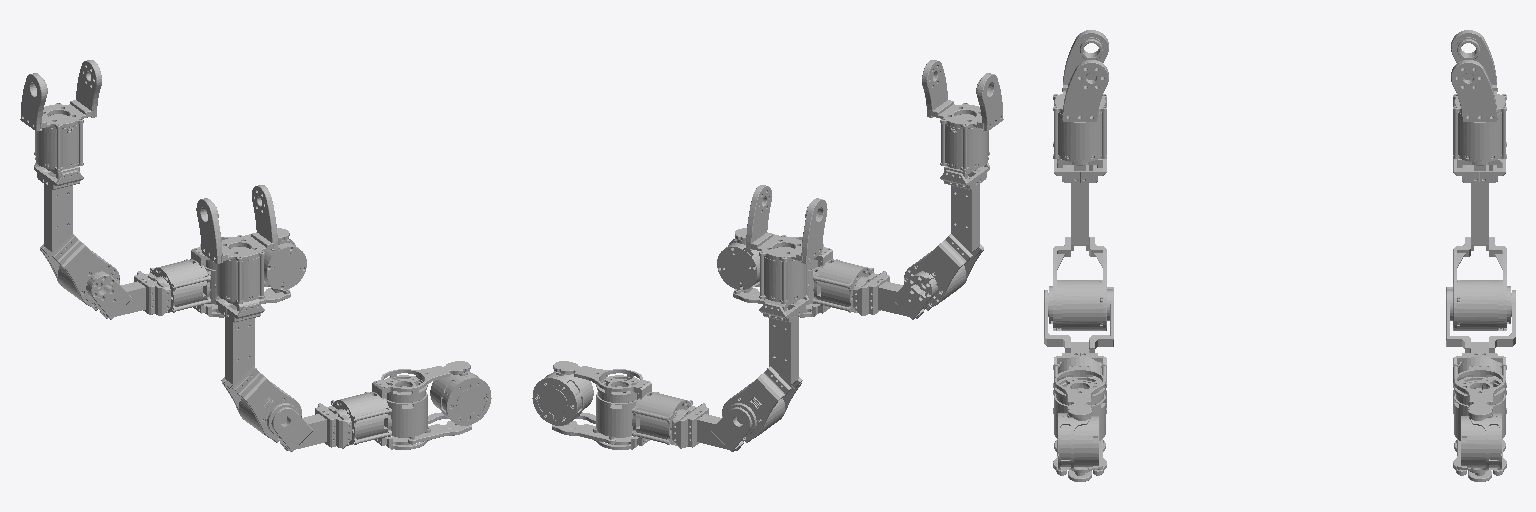
robot.urdf — DualArmURDF:
<?xml version="1.0" encoding="utf-8"?>
<!-- This URDF was automatically created by SolidWorks to URDF Exporter! Originally created by [author] ([email redacted]) 
     Commit Version: 1.6.0-4-g7f85cfe  Build Version: 1.6.7995.38578
     For more information, please see http://wiki.ros.org/sw_urdf_exporter -->
<robot name="DualArmURDF">
  <mujoco>
  <compiler
    meshdir="../meshes/"
    balanceinertia="true"
    discardvisual="false" />
  </mujoco>
  <link
    name="base_link">
    <inertial>
      <origin
        xyz="0 0 0"
        rpy="0 0 0" />
        <!-- <origin
        xyz="0.140939, -0.085551, 0.087643"
        rpy="-0.006349 1.140942  0.037340" /> -->
      <mass
        value="39.224" />
      <inertia
        ixx="1.4231"
        ixy="-1.4275E-12"
        ixz="1.1519E-06"
        iyy="1.4209"
        iyz="-6.1411E-07"
        izz="2.1654" />
    </inertial>
    <visual>
      <origin
        xyz="0 0 0"
        rpy="0 0 0" />
      <geometry>
        <mesh
          filename="../meshes/Base_link.STL" />
      </geometry>
      <material
        name="">
        <color
          rgba="0.75294 0.75294 0.75294 1" />
      </material>
    </visual>
    <collision>
      <origin
        xyz="0 0 0.05"
        rpy="0 0 0" />
      <geometry>
        <!-- <mesh
          filename="../meshes/Base_link.STL" /> -->
          <box size="0.6 0.6 0.1" />
      </geometry>
    </collision>
    <collision>
      <origin
        xyz="0 0 0.6"
        rpy="0 0 0" />
      <geometry>
        <!-- <mesh
          filename="../meshes/Base_link.STL" /> -->
          <box size="0.06 0.06 1.2" />
      </geometry>
    </collision>
  </link>

  <link
    name="left_shoulder_pitch_link">
    <inertial>
      <origin
        xyz="0.0024691 0.060922 -5.9756E-05"
        rpy="0 0 0" />
      <mass
        value="0.41079" />
      <inertia
        ixx="0.00034659"
        ixy="-2.3236E-06"
        ixz="3.6277E-09"
        iyy="0.00017946"
        iyz="5.4217E-08"
        izz="0.00025915" />
    </inertial>
    <visual>
      <origin
        xyz="0 0 0"
        rpy="0 0 0" />
      <geometry>
        <mesh
          filename="../meshes/LeftShoulder_Link1.STL" />
      </geometry>
      <material
        name="">
        <color
          rgba="0.75294 0.75294 0.75294 1" />
      </material>
    </visual>
    <collision>
      <origin
        xyz="0 0 0"
        rpy="0 0 0" />
      <geometry>
        <mesh
          filename="../meshes/LeftShoulder_Link1.STL" />
      </geometry>
    </collision>
  </link>
  <joint
    name="left_shoulder_pitch_joint"
    type="revolute">
    <origin
      xyz="0 0.13275 1.125"
      rpy="0 0 0" />
    <parent
      link="base_link" />
    <child
      link="left_shoulder_pitch_link" />
    <axis
      xyz="0 1 0" />
    <limit
      lower="-3"
      upper="3"
      effort="30"
      velocity="40" />
  </joint>
  <link
    name="left_shoulder_roll_link">
    <inertial>
      <origin
        xyz="-0.035296 0.010378 -0.054088"
        rpy="0 0 0" />
      <mass
        value="0.29343" />
      <inertia
        ixx="0.00011632"
        ixy="1.8611E-07"
        ixz="-4.7344E-07"
        iyy="0.00011227"
        iyz="9.3688E-06"
        izz="0.00010519" />
    </inertial>
    <visual>
      <origin
        xyz="0 0 0"
        rpy="0 0 0" />
      <geometry>
        <mesh
          filename="../meshes/LeftShoulder_Link2.STL" />
      </geometry>
      <material
        name="">
        <color
          rgba="0.75294 0.75294 0.75294 1" />
      </material>
    </visual>
    <collision>
      <origin
        xyz="0 0 0"
        rpy="0 0 0" />
      <geometry>
        <mesh
          filename="../meshes/LeftShoulder_Link2.STL" />
      </geometry>
    </collision>
  </link>
  <joint
    name="left_shoulder_roll_joint"
    type="revolute">
    <origin
      xyz="0.042127 0.076002 -3.734E-05"
      rpy="0 0 0" />
    <parent
      link="left_shoulder_pitch_link" />
    <child
      link="left_shoulder_roll_link" />
    <axis
      xyz="1 0 0" />
    <limit
      lower="-3"
      upper="3"
      effort="30"
      velocity="40" />
  </joint>
  <link
    name="left_shoulder_yaw_link">
    <inertial>
      <origin
        xyz="0.019703 0.0004755 -0.11177"
        rpy="0 0 0" />
      <mass
        value="0.35979" />
      <inertia
        ixx="0.00017257"
        ixy="-8.4345E-07"
        ixz="2.7597E-05"
        iyy="0.00022048"
        iyz="1.1655E-06"
        izz="0.00011603" />
    </inertial>
    <visual>
      <origin
        xyz="0 0 0"
        rpy="0 0 0" />
      <geometry>
        <mesh
          filename="../meshes/LeftShoulder_Link3.STL" />
      </geometry>
      <material
        name="">
        <color
          rgba="0.75294 0.75294 0.75294 1" />
      </material>
    </visual>
    <collision>
      <origin
        xyz="0 0 0"
        rpy="0 0 0" />
      <geometry>
        <mesh
          filename="../meshes/LeftShoulder_Link3.STL" />
      </geometry>
    </collision>
  </link>
  <joint
    name="left_shoulder_yaw_joint"
    type="revolute">
    <origin
      xyz="-0.035 0.012525 -0.10778"
      rpy="0 0 0" />
    <parent
      link="left_shoulder_roll_link" />
    <child
      link="left_shoulder_yaw_link" />
    <axis
      xyz="0 0 1" />
    <limit
      lower="-3"
      upper="3"
      effort="9"
      velocity="36" />
  </joint>
  <link
    name="left_elbow_link">
    <inertial>
      <origin
        xyz="0.079385 0.026419 -0.036184"
        rpy="0 0 0" />
      <mass
        value="0.32663" />
      <inertia
        ixx="0.00010805"
        ixy="5.8792E-07"
        ixz="1.1566E-05"
        iyy="0.00011516"
        iyz="-8.3393E-07"
        izz="9.4814E-05" />
    </inertial>
    <visual>
      <origin
        xyz="0 0 0"
        rpy="0 0 0" />
      <geometry>
        <mesh
          filename="../meshes/LeftElbow_Link4.STL" />
      </geometry>
      <material
        name="">
        <color
          rgba="0.75294 0.75294 0.75294 1" />
      </material>
    </visual>
    <collision>
      <origin
        xyz="0 0 0"
        rpy="0 0 0" />
      <geometry>
        <mesh
          filename="../meshes/LeftElbow_Link4.STL" />
      </geometry>
    </collision>
  </link>
  <joint
    name="left_elbow_joint"
    type="revolute">
    <origin
      xyz="0.042 -0.026425 -0.1697"
      rpy="0 0 0" />
    <parent
      link="left_shoulder_yaw_link" />
    <child
      link="left_elbow_link" />
    <axis
      xyz="0 1 0" />
    <limit
      lower="-3"
      upper="3"
      effort="9"
      velocity="36" />
  </joint>
  <link
    name="left_wrist_roll_link">
    <inertial>
      <origin
        xyz="0.045783 4.8214E-05 -0.0054029"
        rpy="0 0 0" />
      <mass
        value="0.28348" />
      <inertia
        ixx="7.8144E-05"
        ixy="-5.3998E-07"
        ixz="-1.875E-06"
        iyy="0.00019472"
        iyz="-1.2944E-07"
        izz="0.00021139" />
    </inertial>
    <visual>
      <origin
        xyz="0 0 0"
        rpy="0 0 0" />
      <geometry>
        <mesh
          filename="../meshes/LeftWrist_Link5.STL" />
      </geometry>
      <material
        name="">
        <color
          rgba="0.75294 0.75294 0.75294 1" />
      </material>
    </visual>
    <collision>
      <origin
        xyz="0.045 0 0"
        rpy="0 0 0" />
      <geometry>
        <!-- <mesh filename="../meshes/LeftWrist_Link5.STL" /> -->
        <cylinder radius="0.025" length="0.04"/>
      </geometry>
    </collision>
  </link>
  <joint
    name="left_wrist_roll_joint"
    type="revolute">
    <origin
      xyz="0.15175 0.026425 -0.042"
      rpy="0 0 0" />
    <parent
      link="left_elbow_link" />
    <child
      link="left_wrist_roll_link" />
    <axis
      xyz="1 0 0" />
    <limit
      lower="-3"
      upper="3"
      effort="3"
      velocity="120" />
  </joint>
  <link
    name="left_wrist_yaw_link">
    <inertial>
      <origin
        xyz="-3.1508E-05 0.0043496 0.029646"
        rpy="0 0 0" />
      <mass
        value="0.13632" />
      <inertia
        ixx="5.9554E-05"
        ixy="-3.3592E-07"
        ixz="-4.1217E-07"
        iyy="6.8272E-05"
        iyz="-1.1336E-06"
        izz="5.1034E-05" />
    </inertial>
    <visual>
      <origin
        xyz="0 0 0"
        rpy="0 0 0" />
      <geometry>
        <mesh
          filename="../meshes/LeftWrist_Link6.STL" />
      </geometry>
      <material
        name="">
        <color
          rgba="0.75294 0.75294 0.75294 1" />
      </material>
    </visual>
    <collision>
      <origin
        xyz="0 0.0 0.03"
        rpy="1.57075 0 0" />
      <geometry>
        <!-- <mesh filename="../meshes/LeftWrist_Link6.STL" />-->
        <cylinder radius="0.025" length="0.03"/>
      </geometry>
    </collision>
  </link>
  <joint
    name="left_wrist_yaw_joint"
    type="revolute">
    <origin
      xyz="0.115750000000001 0 -0.029997499999986"
      rpy="0 0 0" />
    <parent
      link="left_wrist_roll_link" />
    <child
      link="left_wrist_yaw_link" />
    <axis
      xyz="0 0 1" />
    <limit
      lower="-3"
      upper="3"
      effort="3"
      velocity="120" />
  </joint>
  <link
    name="left_wrist_pitch_link">
    <inertial>
      <origin
        xyz="0.08169 -0.015776 -0.0018077"
        rpy="0 0 0" />
      <mass
        value="0.22561" />
      <inertia
        ixx="0.00011573"
        ixy="7.5078E-06"
        ixz="8.9253E-07"
        iyy="9.7196E-05"
        iyz="4.2662E-07"
        izz="0.00012858" />
    </inertial>
    <visual>
      <origin
        xyz="0 0 0"
        rpy="0 0 0" />
      <geometry>
        <mesh
          filename="../meshes/LeftWrist_Link7.STL" />
      </geometry>
      <material
        name="">
        <color
          rgba="1 1 1 1" />
      </material>
    </visual>
    <collision>
      <origin
        xyz="0 0 0"
        rpy="0 0 0" />
      <geometry>
        <mesh
          filename="../meshes/LeftWrist_Link7.STL" />
      </geometry>
    </collision>
  </link>
  <joint
    name="left_wrist_pitch_joint"
    type="revolute">
    <origin
      xyz="0 0.02465 0.03"
      rpy="0 0 0" />
    <parent
      link="left_wrist_yaw_link" />
    <child
      link="left_wrist_pitch_link" />
    <axis
      xyz="0 1 0" />
    <limit
      lower="-3"
      upper="3"
      effort="3"
      velocity="120" />
  </joint>

  <link
    name="right_shoulder_pitch_link">
    <inertial>
      <origin
        xyz="0.002467 -0.061272 -4.1086E-05"
        rpy="0 0 0" />
      <mass
        value="0.41079" />
      <inertia
        ixx="0.00034659"
        ixy="2.3236E-06"
        ixz="3.6268E-09"
        iyy="0.00017946"
        iyz="-5.421E-08"
        izz="0.00025915" />
    </inertial>
    <visual>
      <origin
        xyz="0 0 0"
        rpy="0 0 0" />
      <geometry>
        <mesh
          filename="../meshes/RightShoulder_Link1.STL" />
      </geometry>
      <material
        name="">
        <color
          rgba="0.75294 0.75294 0.75294 1" />
      </material>
    </visual>
    <collision>
      <origin
        xyz="0 0 0"
        rpy="0 0 0" />
      <geometry>
        <mesh
          filename="../meshes/RightShoulder_Link1.STL" />
      </geometry>
    </collision>
  </link>
  <joint
    name="right_shoulder_pitch_joint"
    type="revolute">
    <origin
      xyz="0 -0.1324 1.125"
      rpy="0 0 0" />
    <parent
      link="base_link" />
    <child
      link="right_shoulder_pitch_link" />
    <axis
      xyz="0 1 0" />
    <limit
      lower="-3"
      upper="3"
      effort="30"
      velocity="40" />
  </joint>
  <link
    name="right_shoulder_roll_link">
    <inertial>
      <origin
        xyz="-0.035296 -0.010378 -0.054088"
        rpy="0 0 0" />
      <mass
        value="0.29343" />
      <inertia
        ixx="0.00011632"
        ixy="-1.8611E-07"
        ixz="-4.7344E-07"
        iyy="0.00011227"
        iyz="-9.3688E-06"
        izz="0.00010519" />
    </inertial>
    <visual>
      <origin
        xyz="0 0 0"
        rpy="0 0 0" />
      <geometry>
        <mesh
          filename="../meshes/RightShoulder_Link2.STL" />
      </geometry>
      <material
        name="">
        <color
          rgba="0.75294 0.75294 0.75294 1" />
      </material>
    </visual>
    <collision>
      <origin
        xyz="0 0 0"
        rpy="0 0 0" />
      <geometry>
        <mesh
          filename="../meshes/RightShoulder_Link2.STL" />
      </geometry>
    </collision>
  </link>
  <joint
    name="right_shoulder_roll_joint"
    type="revolute">
    <origin
      xyz="0.042125 -0.076352 -1.867E-05"
      rpy="0 0 0" />
    <parent
      link="right_shoulder_pitch_link" />
    <child
      link="right_shoulder_roll_link" />
    <axis
      xyz="1 0 0" />
    <limit
      lower="-3"
      upper="3"
      effort="30"
      velocity="40" />
  </joint>
  <link
    name="right_shoulder_yaw_link">
    <inertial>
      <origin
        xyz="0.019703 -0.00047549 -0.11177"
        rpy="0 0 0" />
      <mass
        value="0.35979" />
      <inertia
        ixx="0.00017257"
        ixy="8.4345E-07"
        ixz="2.7597E-05"
        iyy="0.00022048"
        iyz="-1.1655E-06"
        izz="0.00011603" />
    </inertial>
    <visual>
      <origin
        xyz="0 0 0"
        rpy="0 0 0" />
      <geometry>
        <mesh
          filename="../meshes/RightShoulder_Link3.STL" />
      </geometry>
      <material
        name="">
        <color
          rgba="0.75294 0.75294 0.75294 1" />
      </material>
    </visual>
    <collision>
      <origin
        xyz="0 0 0"
        rpy="0 0 0" />
      <geometry>
        <mesh
          filename="../meshes/RightShoulder_Link3.STL" />
      </geometry>
    </collision>
  </link>
  <joint
    name="right_shoulder_yaw_joint"
    type="revolute">
    <origin
      xyz="-0.035 -0.012525 -0.10778"
      rpy="0 0 0" />
    <parent
      link="right_shoulder_roll_link" />
    <child
      link="right_shoulder_yaw_link" />
    <axis
      xyz="0 0 1" />
    <limit
      lower="-3"
      upper="3"
      effort="9"
      velocity="36" />
  </joint>
  <link
    name="right_elbow_link">
    <inertial>
      <origin
        xyz="0.079385 -0.026419 -0.036184"
        rpy="0 0 0" />
      <mass
        value="0.32663" />
      <inertia
        ixx="0.00010805"
        ixy="-5.8792E-07"
        ixz="1.1566E-05"
        iyy="0.00011516"
        iyz="8.3393E-07"
        izz="9.4814E-05" />
    </inertial>
    <visual>
      <origin
        xyz="0 0 0"
        rpy="0 0 0" />
      <geometry>
        <mesh
          filename="../meshes/RightElbow_Link4.STL" />
      </geometry>
      <material
        name="">
        <color
          rgba="0.75294 0.75294 0.75294 1" />
      </material>
    </visual>
    <collision>
      <origin
        xyz="0 0 0"
        rpy="0 0 0" />
      <geometry>
        <mesh
          filename="../meshes/RightElbow_Link4.STL" />
      </geometry>
    </collision>
  </link>
  <joint
    name="right_elbow_joint"
    type="revolute">
    <origin
      xyz="0.042 0.026425 -0.1697"
      rpy="0 0 0" />
    <parent
      link="right_shoulder_yaw_link" />
    <child
      link="right_elbow_link" />
    <axis
      xyz="0 1 0" />
    <limit
      lower="-3"
      upper="3"
      effort="9"
      velocity="36" />
  </joint>
  <link
    name="right_wrist_roll_link">
    <inertial>
      <origin
        xyz="0.045783 -4.8219E-05 -0.0054029"
        rpy="0 0 0" />
      <mass
        value="0.28348" />
      <inertia
        ixx="7.8144E-05"
        ixy="5.3992E-07"
        ixz="-1.875E-06"
        iyy="0.00019472"
        iyz="1.2944E-07"
        izz="0.00021139" />
    </inertial>
    <visual>
      <origin
        xyz="0 0 0"
        rpy="0 0 0" />
      <geometry>
        <mesh
          filename="../meshes/RighWrist_Link5.STL" />
      </geometry>
      <material
        name="">
        <color
          rgba="0.75294 0.75294 0.75294 1" />
      </material>
    </visual>
    <collision>
      <origin
        xyz="0.045 0 0"
        rpy="0 0 0" />
      <geometry>
        <!-- <mesh filename="../meshes/RighWrist_Link5.STL" /> -->
        <cylinder radius="0.025" length="0.04"/>
      </geometry>
    </collision>
  </link>
  <joint
    name="right_wrist_roll_joint"
    type="revolute">
    <origin
      xyz="0.15175 -0.026425 -0.042"
      rpy="0 0 0" />
    <parent
      link="right_elbow_link" />
    <child
      link="right_wrist_roll_link" />
    <axis
      xyz="1 0 0" />
    <limit
      lower="-3"
      upper="3"
      effort="3"
      velocity="120" />
  </joint>
  <link
    name="right_wrist_yaw_link">
    <inertial>
      <origin
        xyz="-3.1537E-05 -0.0043496 0.029646"
        rpy="0 0 0" />
      <mass
        value="0.13632" />
      <inertia
        ixx="5.9554E-05"
        ixy="3.3603E-07"
        ixz="-4.1206E-07"
        iyy="6.8272E-05"
        iyz="1.1336E-06"
        izz="5.1034E-05" />
    </inertial>
    <visual>
      <origin
        xyz="0 0 0"
        rpy="0 0 0" />
      <geometry>
        <mesh
          filename="../meshes/RightWrist_Link6.STL" />
      </geometry>
      <material
        name="">
        <color
          rgba="0.75294 0.75294 0.75294 1" />
      </material>
    </visual>
    <collision>
      <origin
        xyz="0 0.0 0.03"
        rpy="1.57075 0 0" />
      <geometry>
        <!-- <mesh filename="../meshes/RightWrist_Link6.STL" /> -->
        <cylinder radius="0.025" length="0.03"/>
      </geometry>
    </collision>
  </link>
  <joint
    name="right_wrist_yaw_joint"
    type="revolute">
    <origin
      xyz="0.11575 0 -0.029998"
      rpy="0 0 0" />
    <parent
      link="right_wrist_roll_link" />
    <child
      link="right_wrist_yaw_link" />
    <axis
      xyz="0 0 1" />
    <limit
      lower="-3"
      upper="3"
      effort="3"
      velocity="120" />
  </joint>
  <link
    name="right_wrist_pitch_link">
    <inertial>
      <origin
        xyz="0.08169 0.015776 -0.0018077"
        rpy="0 0 0" />
      <mass
        value="0.22561" />
      <inertia
        ixx="0.00011573"
        ixy="-7.5078E-06"
        ixz="8.9253E-07"
        iyy="9.7196E-05"
        iyz="-4.2661E-07"
        izz="0.00012858" />
    </inertial>
    <visual>
      <origin
        xyz="0 0 0"
        rpy="0 0 0" />
      <geometry>
        <mesh
          filename="../meshes/RightWrist_Link7.STL" />
      </geometry>
      <material
        name="">
        <color
          rgba="0.89804 0.91765 0.92941 1" />
      </material>
    </visual>
    <collision>
      <origin
        xyz="0 0 0"
        rpy="0 0 0" />
      <geometry>
        <mesh
          filename="../meshes/RightWrist_Link7.STL" />
      </geometry>
    </collision>
  </link>
  <joint
    name="right_wrist_pitch_joint"
    type="revolute">
    <origin
      xyz="0 -0.02465 0.03"
      rpy="0 0 0" />
    <parent
      link="right_wrist_yaw_link" />
    <child
      link="right_wrist_pitch_link" />
    <axis
      xyz="0 1 0" />
    <limit
      lower="-3"
      upper="3"
      effort="3"
      velocity="120" />
  </joint>
</robot>

--- Facts derived from the render (not from the file) ---
The picture shows the robot from 3 angles, left to right: view 1: azimuth 30°, elevation 25°; view 2: azimuth 150°, elevation 25°; view 3: azimuth 270°, elevation 25°; orthographic projection.
Robot: DualArmURDF — 15 links, 14 joints (14 revolute); root link base_link; default pose: every joint at zero.
Visible links, largest first — view 1: right_shoulder_roll_link, left_shoulder_roll_link, right_shoulder_yaw_link, left_shoulder_yaw_link, left_elbow_link, right_wrist_roll_link, right_elbow_link, right_wrist_yaw_link, left_wrist_yaw_link, left_wrist_roll_link; view 2: left_shoulder_roll_link, right_shoulder_roll_link, left_shoulder_yaw_link, right_shoulder_yaw_link, right_elbow_link, left_wrist_roll_link, left_elbow_link, left_wrist_yaw_link, right_wrist_yaw_link, right_wrist_roll_link; view 3: right_shoulder_yaw_link, left_shoulder_yaw_link, right_shoulder_roll_link, left_shoulder_roll_link, right_wrist_roll_link, left_wrist_roll_link, right_elbow_link, left_wrist_yaw_link, left_elbow_link, right_wrist_yaw_link.
Boxes of the visible links, <box> form: right_shoulder_roll_link: <box>196,185,277,303</box>; left_shoulder_roll_link: <box>20,60,101,171</box>; right_shoulder_yaw_link: <box>215,295,301,439</box>; left_shoulder_yaw_link: <box>34,163,119,307</box>; left_elbow_link: <box>87,259,207,319</box>; right_wrist_roll_link: <box>365,361,471,449</box>; right_elbow_link: <box>272,392,388,451</box>; right_wrist_yaw_link: <box>430,371,491,425</box>; left_wrist_yaw_link: <box>264,238,306,293</box>; left_wrist_roll_link: <box>184,228,290,317</box>; left_shoulder_roll_link: <box>746,185,827,303</box>; right_shoulder_roll_link: <box>922,60,1003,171</box>; left_shoulder_yaw_link: <box>722,295,808,439</box>; right_shoulder_yaw_link: <box>904,163,989,307</box>; right_elbow_link: <box>816,259,936,319</box>; left_wrist_roll_link: <box>552,361,658,449</box>; left_elbow_link: <box>635,392,751,451</box>; left_wrist_yaw_link: <box>532,371,593,425</box>; right_wrist_yaw_link: <box>717,238,760,293</box>; right_wrist_roll_link: <box>733,228,839,317</box>; right_shoulder_yaw_link: <box>1049,159,1106,330</box>; left_shoulder_yaw_link: <box>1453,159,1510,330</box>; right_shoulder_roll_link: <box>1053,30,1108,162</box>; left_shoulder_roll_link: <box>1451,30,1506,162</box>; right_wrist_roll_link: <box>1053,366,1106,481</box>; left_wrist_roll_link: <box>1453,366,1506,481</box>; right_elbow_link: <box>1044,287,1113,407</box>; left_wrist_yaw_link: <box>1457,413,1501,472</box>; left_elbow_link: <box>1446,287,1515,407</box>; right_wrist_yaw_link: <box>1058,413,1102,472</box>.
Size in the robot's own frame: 0.384 by 0.5213 by 0.3836 metres.
10 mesh visuals loaded from 15 distinct referenced files (10 binary STL); not drawn: 5 (reference not matched to a file when rendering).
